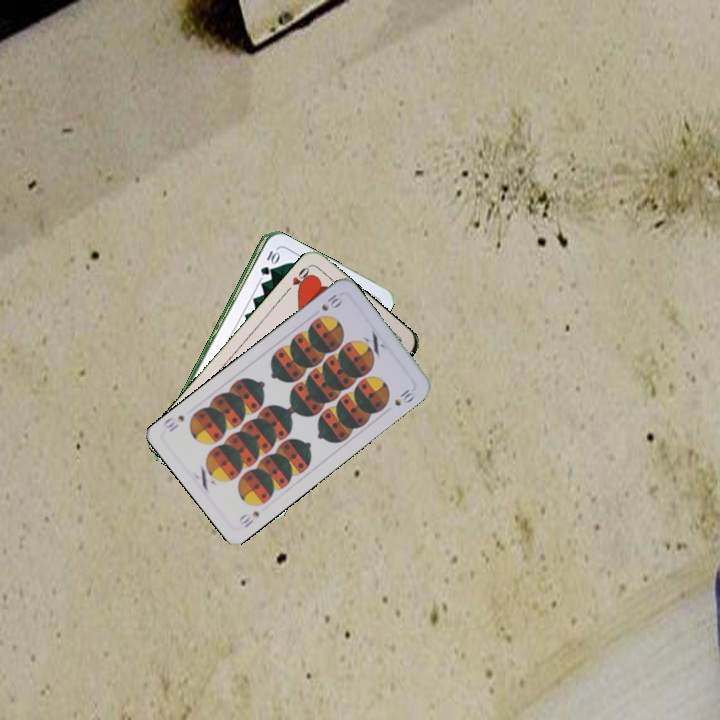G10: (256, 246, 280, 278)
HO: (281, 262, 315, 296)
S10: (317, 290, 345, 314), (235, 507, 262, 530)
